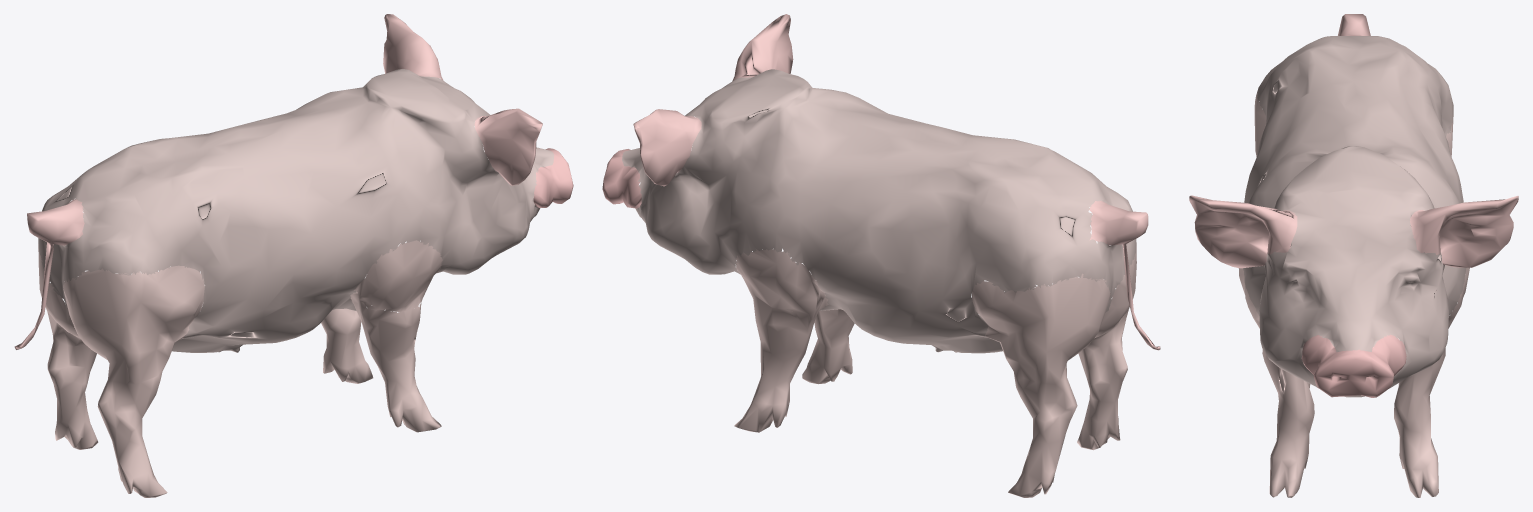
The model's file is pig.glb.
3 views of the same model, side by side, from view 1: azimuth 30°, elevation 25°; view 2: azimuth 150°, elevation 25°; view 3: azimuth 270°, elevation 25° (orthographic). The views are drawn at different scales.
Parts seen in each view (by area): view 1: part1, part6, part2, part9, part4, part5, part8, part3, part0, part7; view 2: part1, part9, part8, part6, part0, part2, part3, part5, part7; view 3: part1, part5, part0, part7, part8, part2, part3, part6.
Boxes of the visible parts, x1,y1,x2,y2 form: part1: (38, 69, 554, 352); part6: (63, 265, 204, 497); part2: (350, 293, 441, 432); part9: (38, 244, 98, 449); part4: (354, 240, 442, 312); part5: (474, 108, 542, 185); part8: (321, 291, 373, 383); part3: (14, 199, 84, 349); part0: (383, 14, 443, 80); part7: (533, 148, 573, 207); part1: (622, 69, 1136, 353); part9: (972, 273, 1110, 497); part8: (734, 248, 828, 432); part6: (1077, 242, 1136, 450); part0: (633, 109, 701, 186); part2: (802, 297, 854, 384); part3: (1089, 200, 1160, 350); part5: (732, 14, 793, 81); part7: (602, 149, 641, 208); part1: (1243, 36, 1466, 397); part5: (1189, 195, 1297, 268); part0: (1410, 196, 1518, 267); part7: (1301, 334, 1406, 397); part8: (1394, 267, 1469, 497); part2: (1262, 349, 1314, 497); part3: (1338, 14, 1370, 35); part6: (1254, 92, 1291, 246).
Size of the model in its own units: 0.9977 by 0.5553 by 0.4912.
